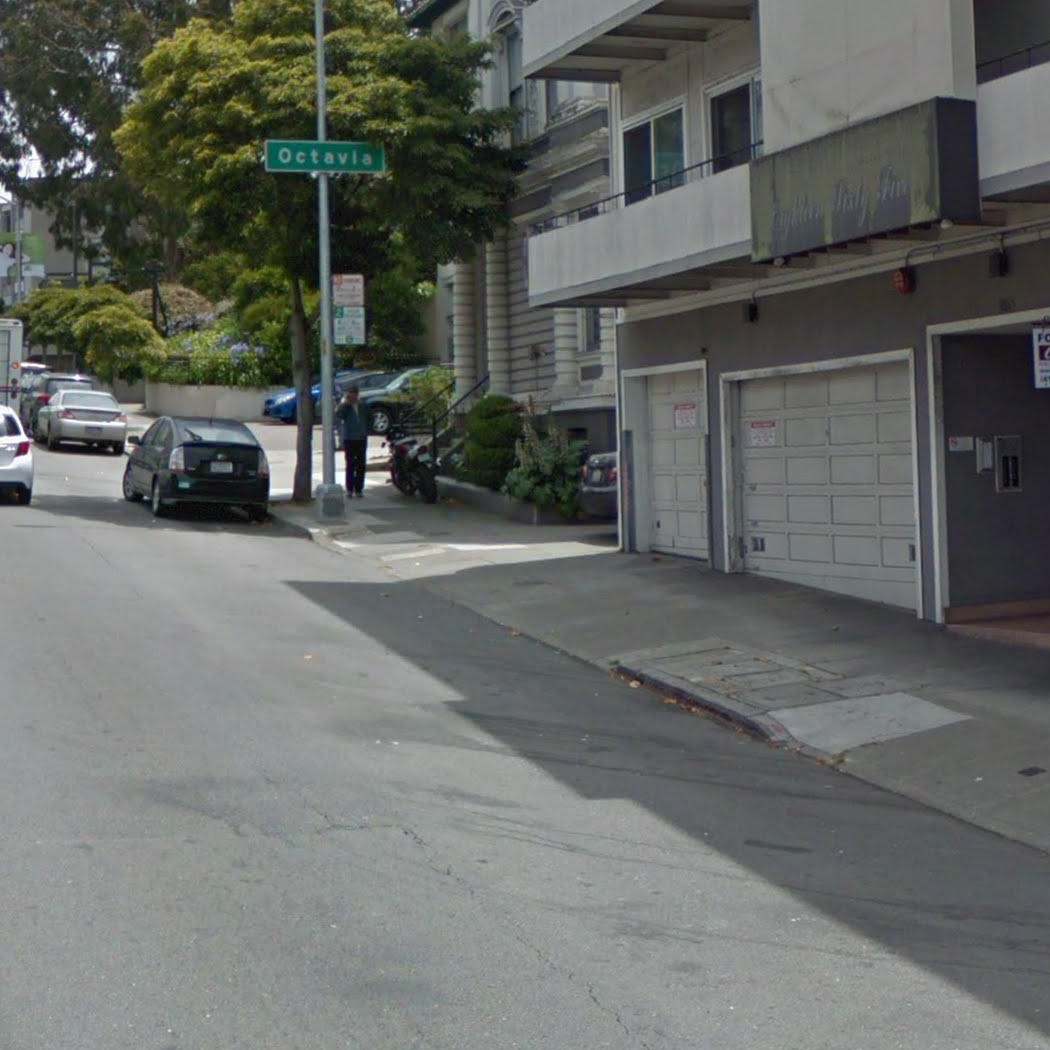2 Hour Parking: (332, 308, 366, 345)
No Parking: (332, 274, 365, 307)
